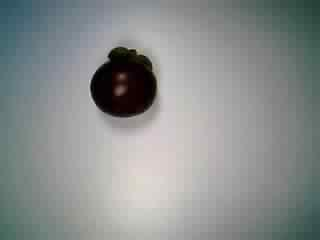mangosteen: (82, 42, 159, 119)
